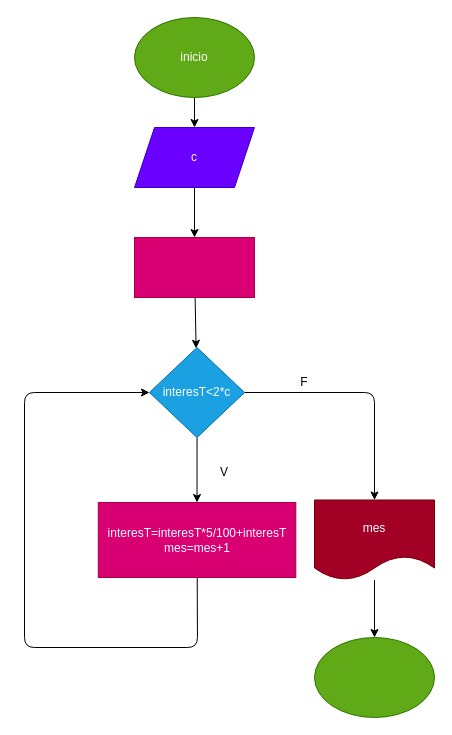
Image size: 452x735. Some labels were removed from this diagram. The shapes that lost their labels are listed below. From the top down, each one's box as (x1, y1, x2, y2) in pixels, then its label:
(134, 236, 254, 298): mes=0 interesT=c
(314, 636, 434, 718): fin
